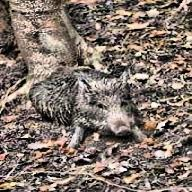boar: (28, 64, 144, 150)
